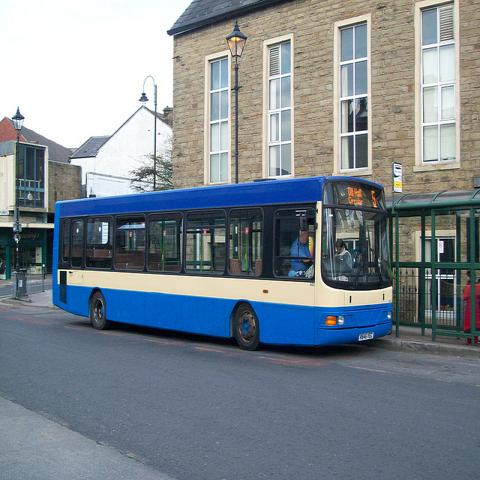bus: (54, 177, 393, 352)
